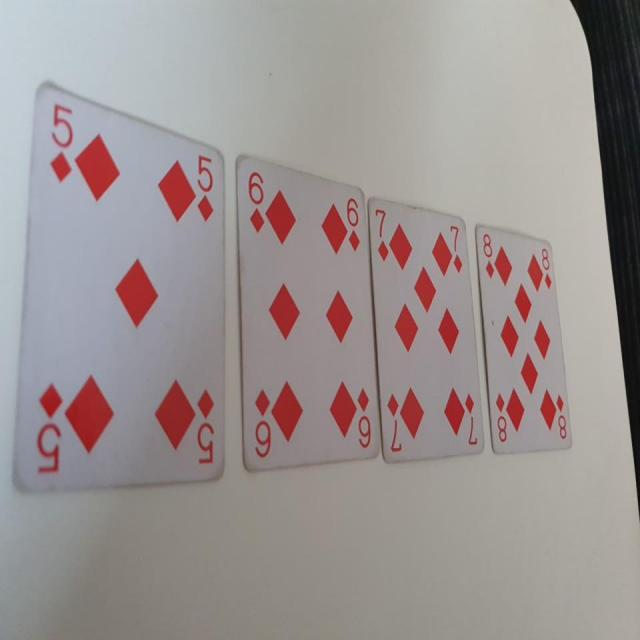5 Diamonds: (10, 76, 223, 497)
6 Diamonds: (236, 153, 381, 470)
7 Diamonds: (366, 197, 488, 464)
8 Diamonds: (475, 225, 574, 454)
